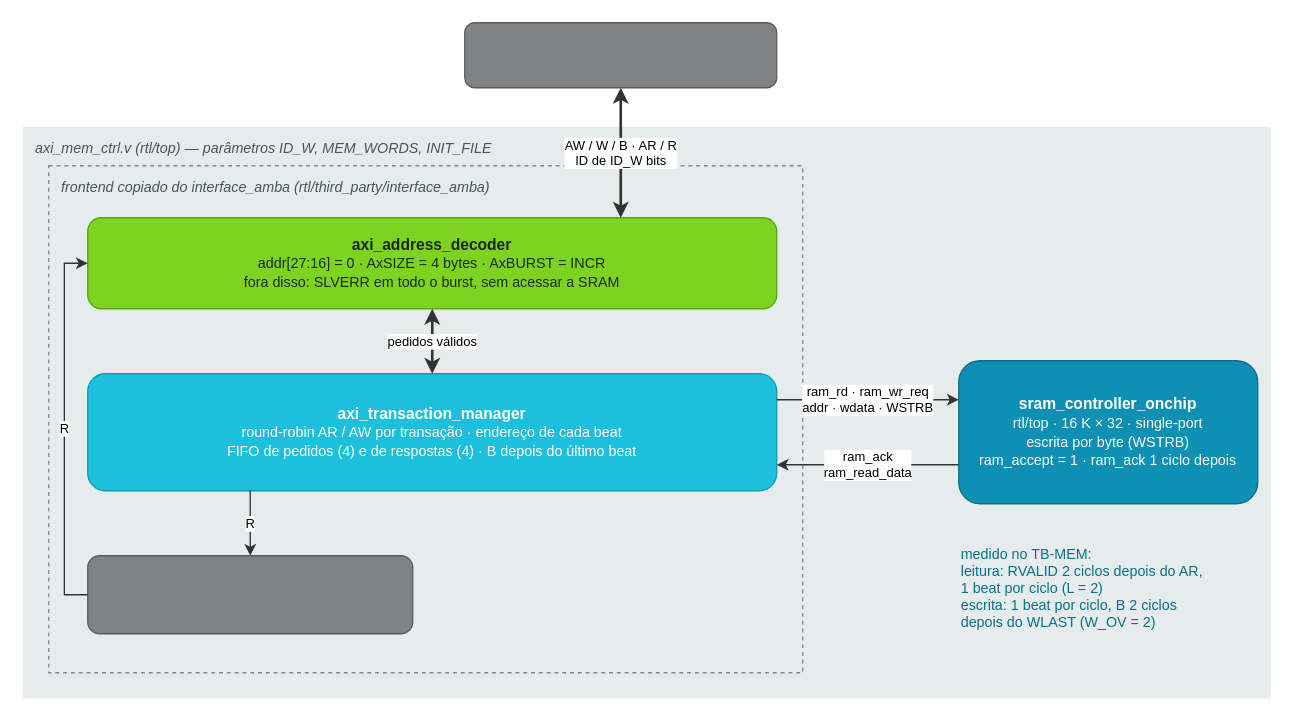
Some shapes in this 1292 by 722 pixel diagram are drawn without their labels. The shapes that lost their labels are listed below. From the top down, each one's centre as x and y in pixels, then its label:
the point at 620,54: master AXI4 S0 do axi_xbar · ou o TB
the point at 249,594: axi_narrow_read_align passagem direta (4 bytes)
